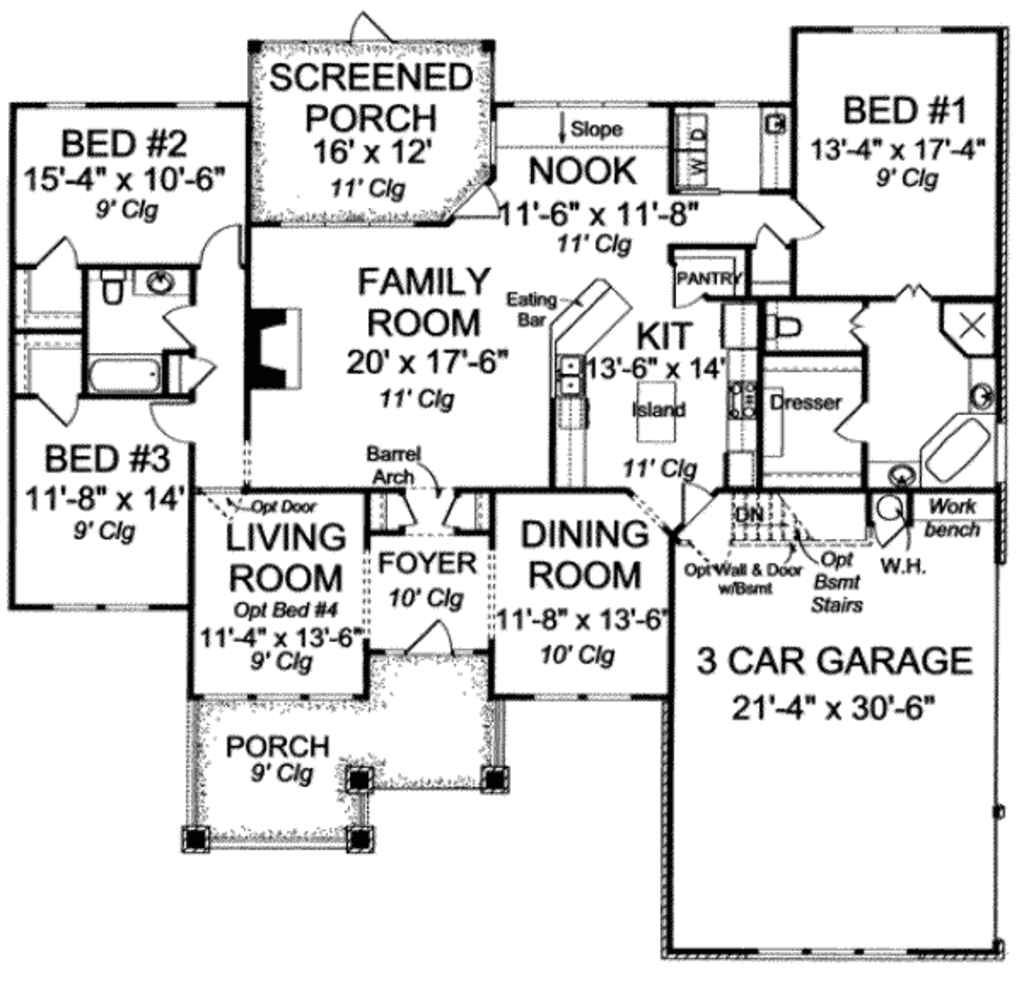door: (195, 210, 251, 271), (398, 609, 464, 659), (148, 397, 204, 451), (680, 473, 720, 543), (453, 183, 514, 226), (833, 391, 876, 450), (156, 300, 201, 353), (342, 9, 407, 44), (30, 233, 89, 269), (784, 192, 822, 243), (869, 514, 913, 558), (893, 277, 942, 315), (379, 493, 418, 538), (28, 396, 78, 428), (842, 297, 871, 352), (438, 486, 470, 533), (672, 283, 712, 317), (753, 217, 787, 253), (184, 352, 213, 390)
large_sink: (759, 306, 806, 352), (98, 266, 132, 307)
small_sink: (964, 349, 1006, 411), (136, 269, 189, 302), (871, 460, 925, 483)
tub: (923, 404, 1000, 489), (84, 353, 166, 401)
twin_sink: (552, 343, 583, 397)
window: (764, 942, 911, 964), (526, 689, 637, 708), (847, 20, 945, 39), (709, 96, 769, 116), (172, 99, 225, 113), (40, 101, 96, 114), (39, 599, 160, 603)
